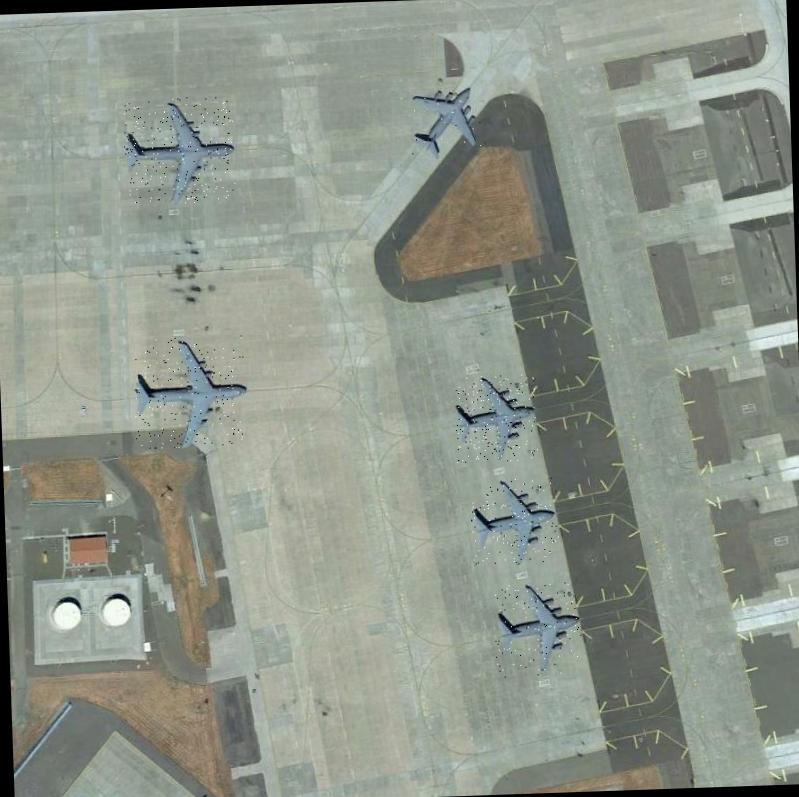A3: (492, 581, 582, 677), (469, 476, 559, 564), (453, 373, 537, 462), (408, 84, 480, 156)
A4: (131, 334, 246, 448), (121, 95, 235, 205)
